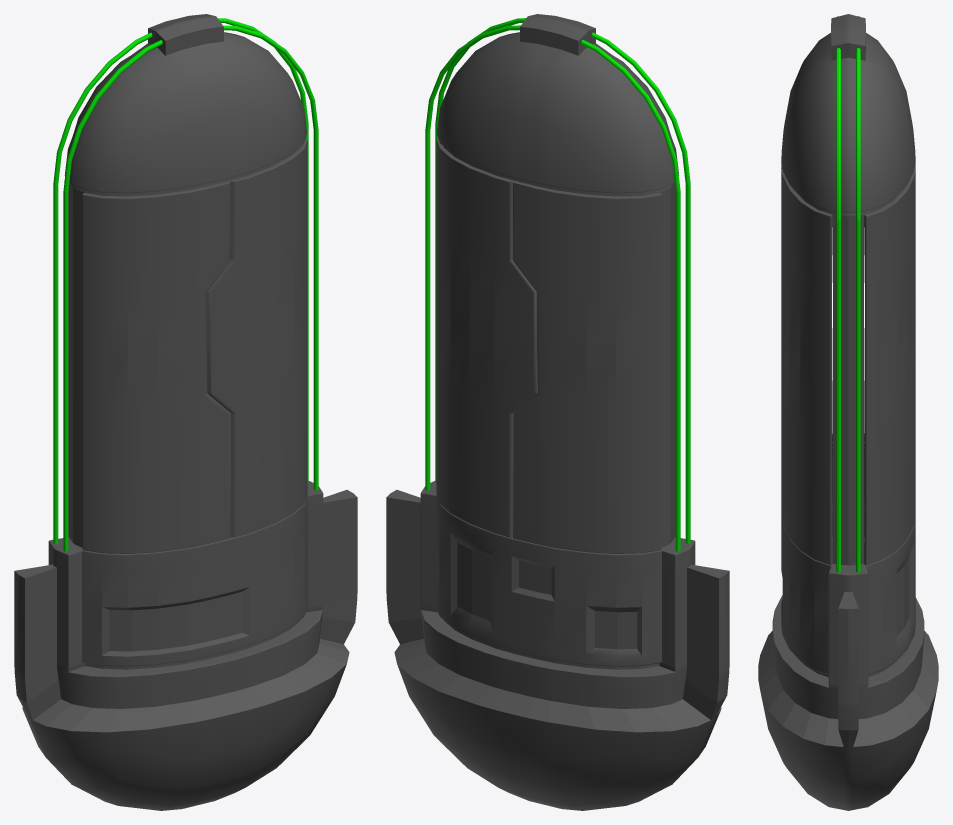
The model's file is DropPod 1.fbx.
The picture shows the model from 3 angles, left to right: view 1: azimuth 30°, elevation 25°; view 2: azimuth 150°, elevation 25°; view 3: azimuth 270°, elevation 25°; orthographic projection.
Visible parts, largest first — view 1: Shell, DoorRight2, DootRight1, Bar2, Bar1; view 2: Shell, DoorLeft1, DoorLeft2, Bar1, Bar2; view 3: Shell, DoorLeft2, DootRight1, Bar2, Bar1.
Part boxes in pixels (<box>): Shell: <box>14,14,357,810</box>; DoorRight2: <box>82,180,230,553</box>; DootRight1: <box>207,139,307,537</box>; Bar2: <box>63,25,318,551</box>; Bar1: <box>53,18,308,544</box>; Shell: <box>386,14,729,810</box>; DoorLeft1: <box>513,180,661,553</box>; DoorLeft2: <box>436,139,537,537</box>; Bar1: <box>425,25,680,551</box>; Bar2: <box>435,18,690,544</box>; Shell: <box>758,14,938,810</box>; DoorLeft2: <box>864,168,915,565</box>; DootRight1: <box>781,169,832,565</box>; Bar2: <box>836,16,840,572</box>; Bar1: <box>856,16,860,572</box>.
Size of the model in its own units: 2.66 by 5.91 by 1.26.
